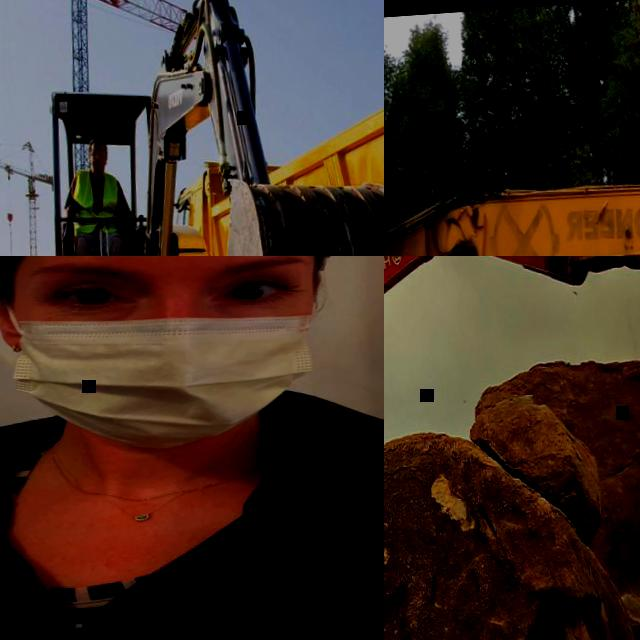machinery: (0, 0, 384, 256), (384, 256, 640, 640), (161, 39, 384, 256), (384, 137, 640, 256)
mask: (6, 278, 337, 458)
no_helmet: (91, 136, 108, 146)
no_mask: (92, 160, 106, 173)
no_vest: (0, 405, 384, 640), (72, 169, 124, 230)
person: (0, 256, 384, 640), (62, 133, 143, 256)
